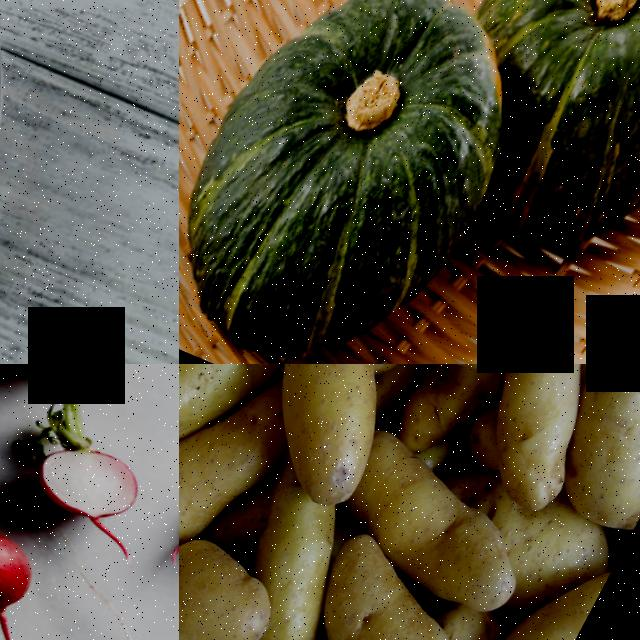potato: (329, 430, 574, 617), (223, 364, 502, 511), (275, 530, 565, 640), (467, 364, 631, 519), (544, 364, 640, 532), (179, 524, 312, 640), (179, 364, 310, 471), (179, 417, 259, 572)
pumpkin: (179, 0, 555, 364), (460, 0, 640, 156)
radishes: (13, 414, 173, 537), (0, 488, 65, 628), (0, 364, 154, 402)
red rice: (0, 0, 40, 364)
